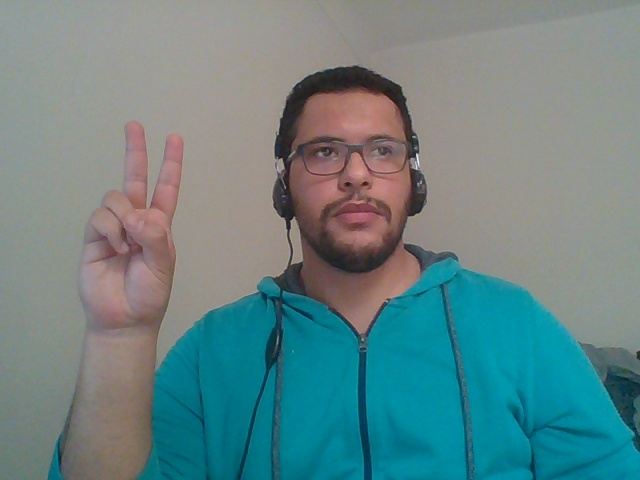vectory: (58, 107, 200, 347)
